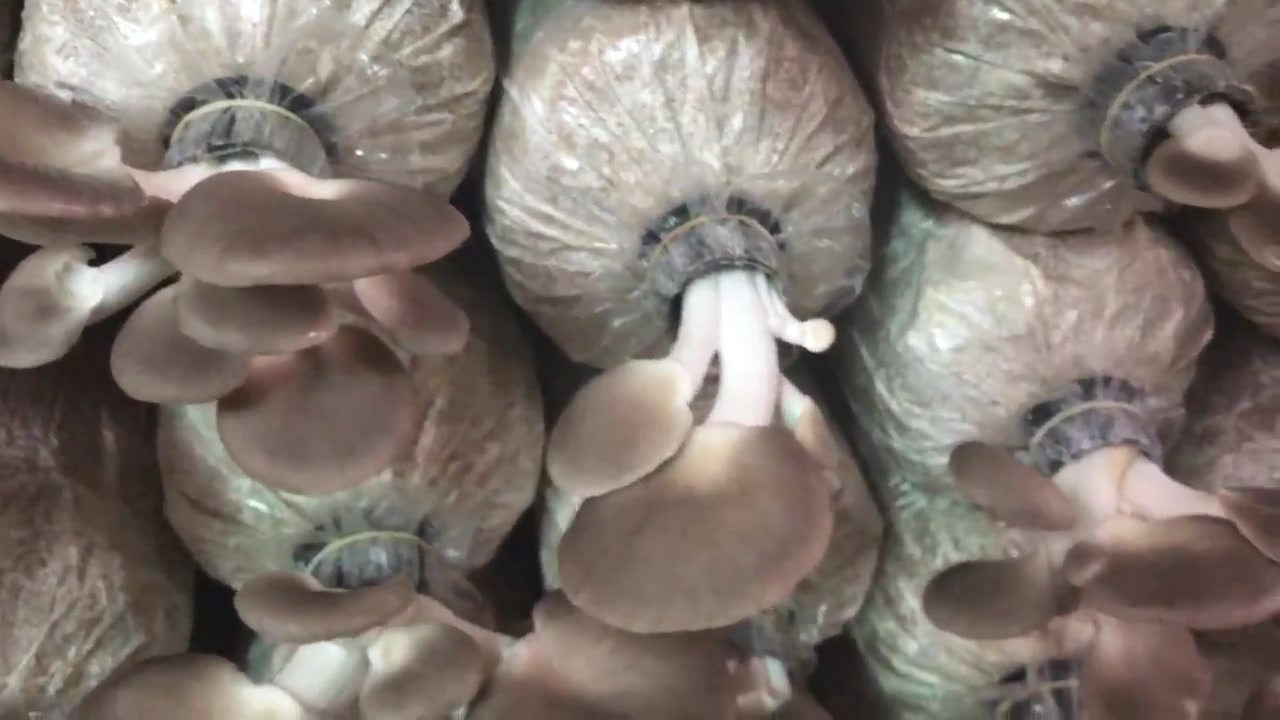nam: (1, 74, 475, 500), (75, 538, 826, 720), (548, 214, 846, 632), (921, 399, 1280, 719), (1099, 37, 1280, 265)
